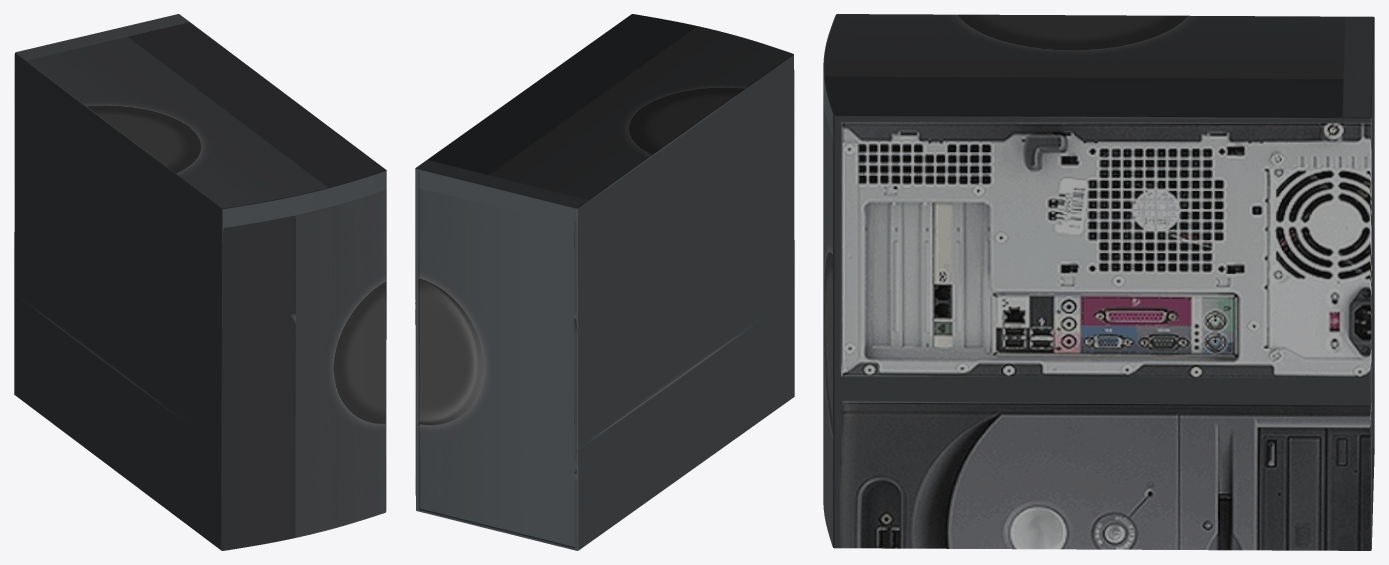
Rendered from CPU.obj.
3 renders of one model, left to right at view 1: azimuth 30°, elevation 25°; view 2: azimuth 150°, elevation 25°; view 3: azimuth 270°, elevation 25°, orthographic. The views are drawn at different scales.
Visible parts, largest first — view 1: 10104_Computer_CPU_Case; view 2: 10104_Computer_CPU_Case; view 3: 10104_Computer_CPU_Case.
Part boxes in pixels (x1=…): 10104_Computer_CPU_Case: x1=14, y1=14, x2=386, y2=550; 10104_Computer_CPU_Case: x1=415, y1=14, x2=794, y2=550; 10104_Computer_CPU_Case: x1=823, y1=14, x2=1374, y2=550.
Bounding box in the file's own units: 0.7216 × 1.4 × 1.61.
Materials: 1 (1 with a texture image).
